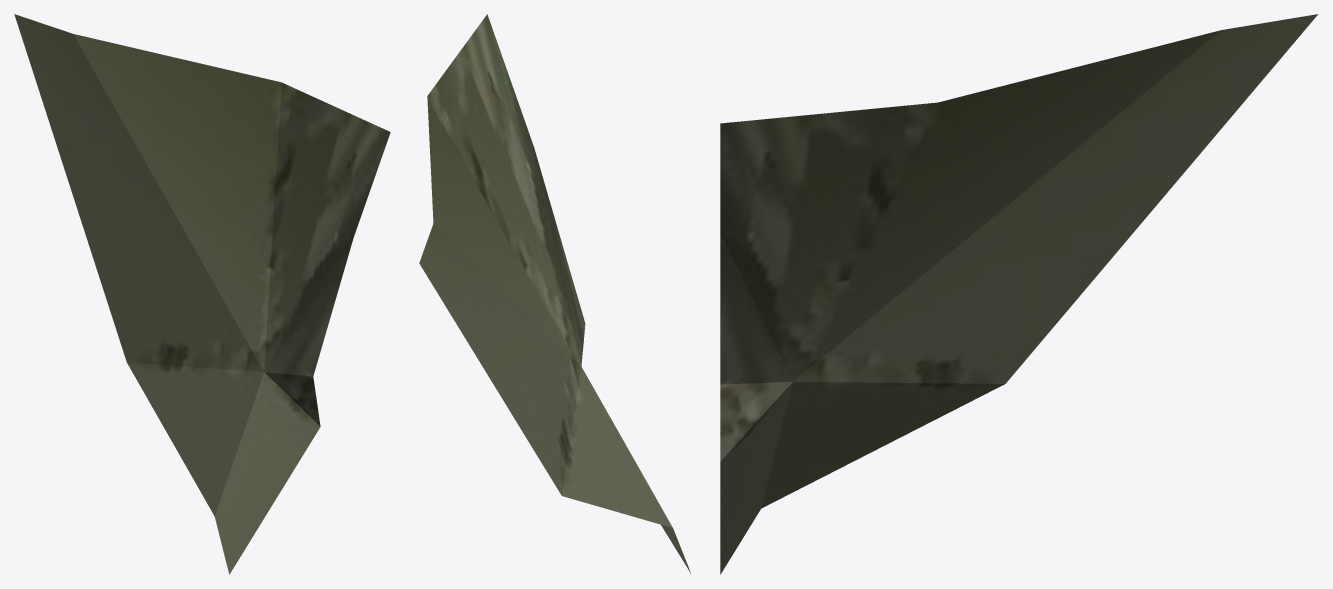
3 renders of one model, left to right at view 1: azimuth 30°, elevation 25°; view 2: azimuth 150°, elevation 25°; view 3: azimuth 270°, elevation 25°, orthographic. The views are drawn at different scales.
Size of the model in its own units: 0.4768 by 1.14 by 1.1.
1 material, 1 textured.
